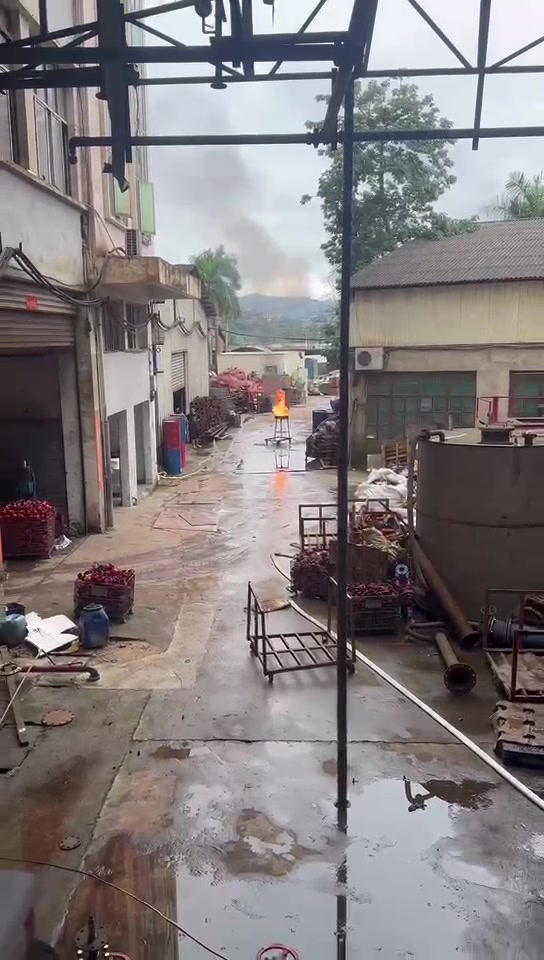fire: (271, 387, 292, 415)
